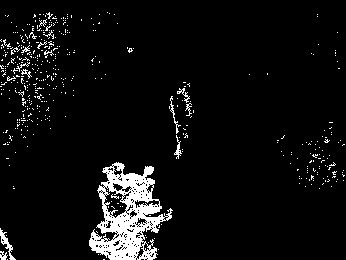person: (168, 79, 194, 156)
